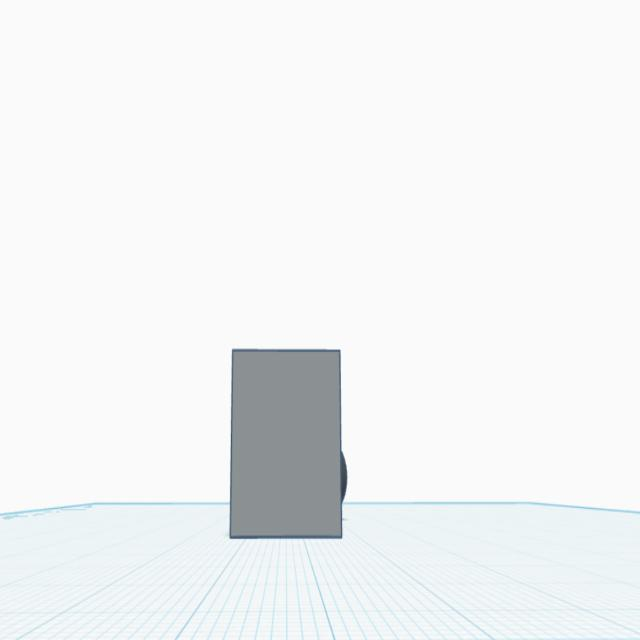cube: (228, 340, 346, 541)
